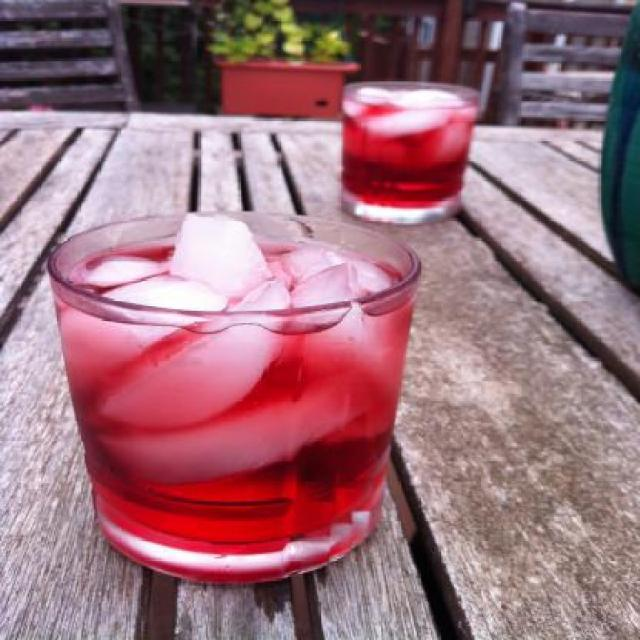Juice: (60, 215, 422, 578), (338, 88, 476, 210)
